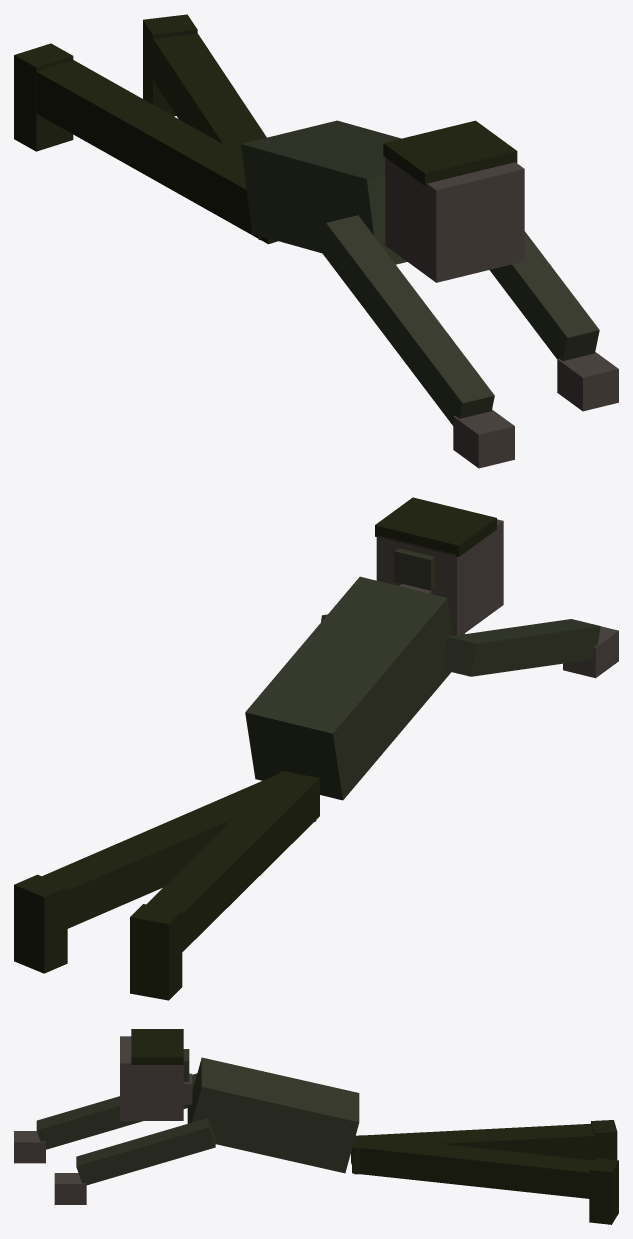
File: SM_ZombiFino_v13_Reptante_LOD0.fbx
The picture shows the model from 3 angles, top to bottom: view 1: azimuth 30°, elevation 25°; view 2: azimuth 150°, elevation 25°; view 3: azimuth 270°, elevation 25°; orthographic projection. The views are drawn at different scales.
Parts seen in each view (by area): view 1: SM_zombi_fino_v13_LOD0; view 2: SM_zombi_fino_v13_LOD0; view 3: SM_zombi_fino_v13_LOD0.
Part boxes in pixels (x1,y1,x2,y2): SM_zombi_fino_v13_LOD0: (14,14,618,468); SM_zombi_fino_v13_LOD0: (14,497,618,1000); SM_zombi_fino_v13_LOD0: (14,1029,618,1224).
Size of the model in its own units: 0.4647 by 0.575 by 2.09.
